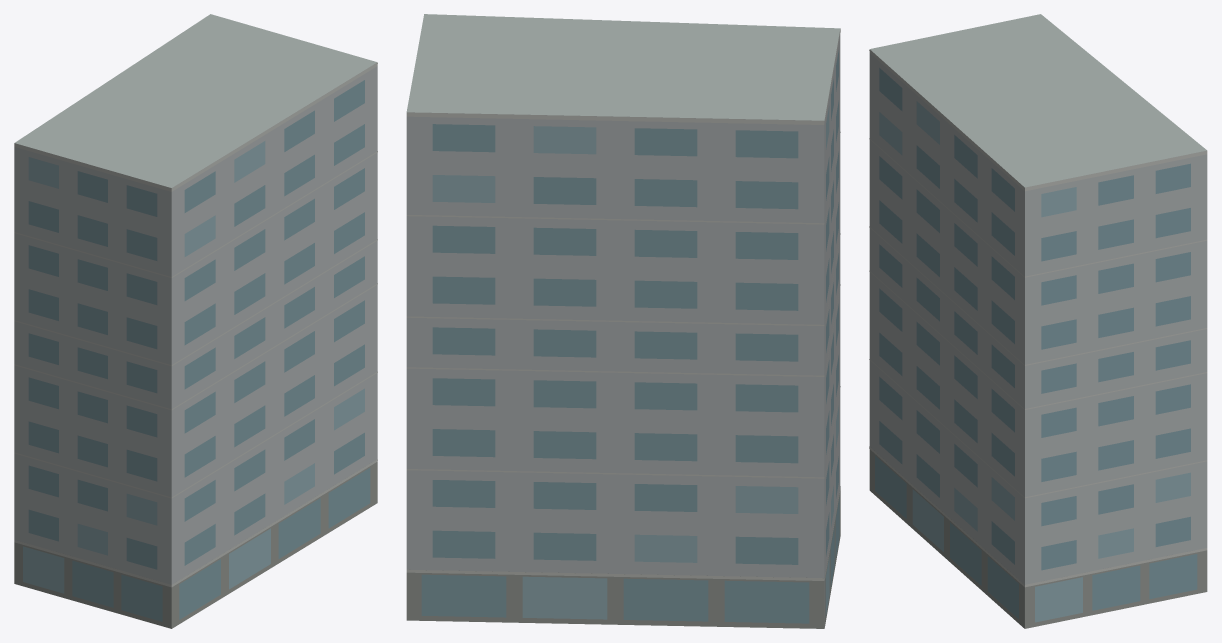
File: survey-upis-32973164.glb
3 renders of one model, left to right at view 1: azimuth 30°, elevation 25°; view 2: azimuth 150°, elevation 25°; view 3: azimuth 270°, elevation 25°, orthographic. The views are drawn at different scales.
Parts seen in each view (by area): view 1: survey-upis-32973164.tmp; view 2: survey-upis-32973164.tmp; view 3: survey-upis-32973164.tmp.
Part boxes in pixels (x1,y1,x2,y2): survey-upis-32973164.tmp: (14,14,377,628); survey-upis-32973164.tmp: (406,14,840,628); survey-upis-32973164.tmp: (869,14,1207,628).
Size of the model in its own units: 23.89 by 28.3 by 19.66.
